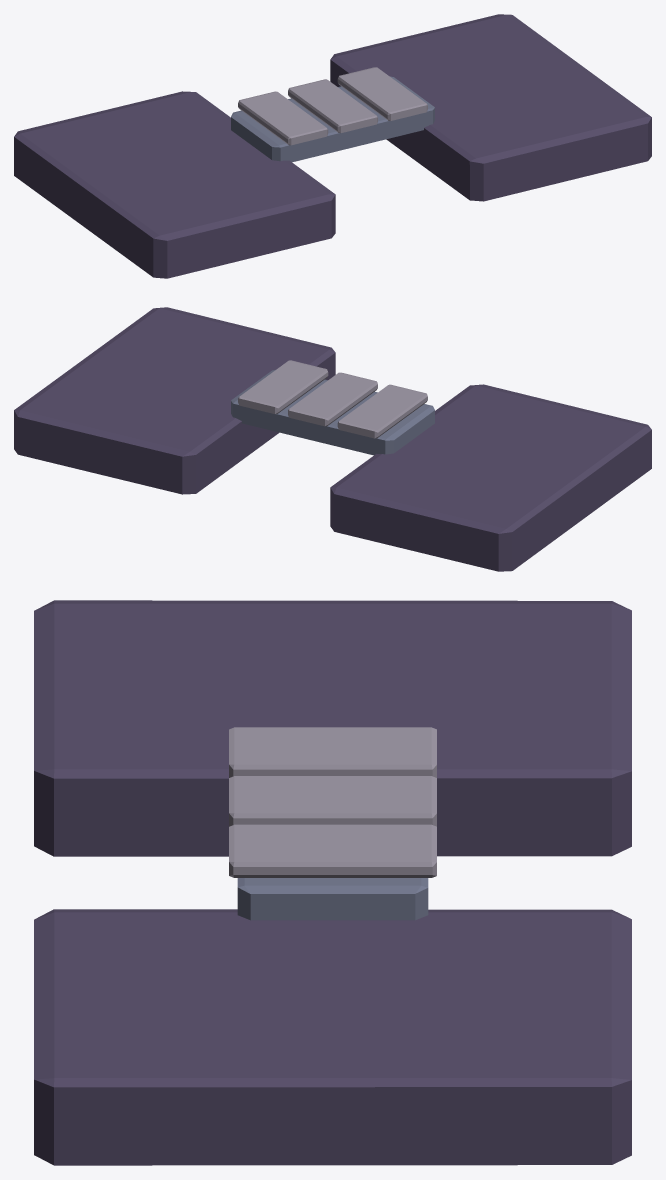
File: cinder-span.glb
The picture shows the model from 3 angles, top to bottom: view 1: azimuth 30°, elevation 25°; view 2: azimuth 150°, elevation 25°; view 3: azimuth 270°, elevation 25°; orthographic projection. The views are drawn at different scales.
Visible parts, largest first — view 1: cinder-left-cliff, cinder-right-cliff, cinder-bridge, cinder-segment-0, cinder-segment-2, cinder-segment-1; view 2: cinder-left-cliff, cinder-right-cliff, cinder-bridge, cinder-segment-0, cinder-segment-2, cinder-segment-1; view 3: cinder-right-cliff, cinder-left-cliff, cinder-segment-2, cinder-segment-0, cinder-segment-1, cinder-bridge.
Boxes of the visible parts, left/top/right/bottom form: cinder-left-cliff: left=14, top=91, right=335, bottom=278; cinder-right-cliff: left=330, top=14, right=651, bottom=201; cinder-bridge: left=231, top=76, right=434, bottom=162; cinder-segment-0: left=238, top=91, right=328, bottom=145; cinder-segment-2: left=337, top=67, right=427, bottom=120; cinder-segment-1: left=288, top=79, right=377, bottom=133; cinder-left-cliff: left=330, top=384, right=651, bottom=571; cinder-right-cliff: left=14, top=307, right=335, bottom=494; cinder-bridge: left=231, top=369, right=434, bottom=455; cinder-segment-0: left=337, top=384, right=427, bottom=438; cinder-segment-2: left=238, top=360, right=328, bottom=414; cinder-segment-1: left=288, top=372, right=377, bottom=426; cinder-right-cliff: left=34, top=909, right=631, bottom=1165; cinder-left-cliff: left=34, top=600, right=631, bottom=856; cinder-segment-2: left=229, top=824, right=436, bottom=877; cinder-segment-0: left=229, top=727, right=436, bottom=777; cinder-segment-1: left=229, top=776, right=436, bottom=826; cinder-bridge: left=237, top=878, right=428, bottom=920.
Bounding box in the file's own units: 5.2 × 0.65 × 2.7.
